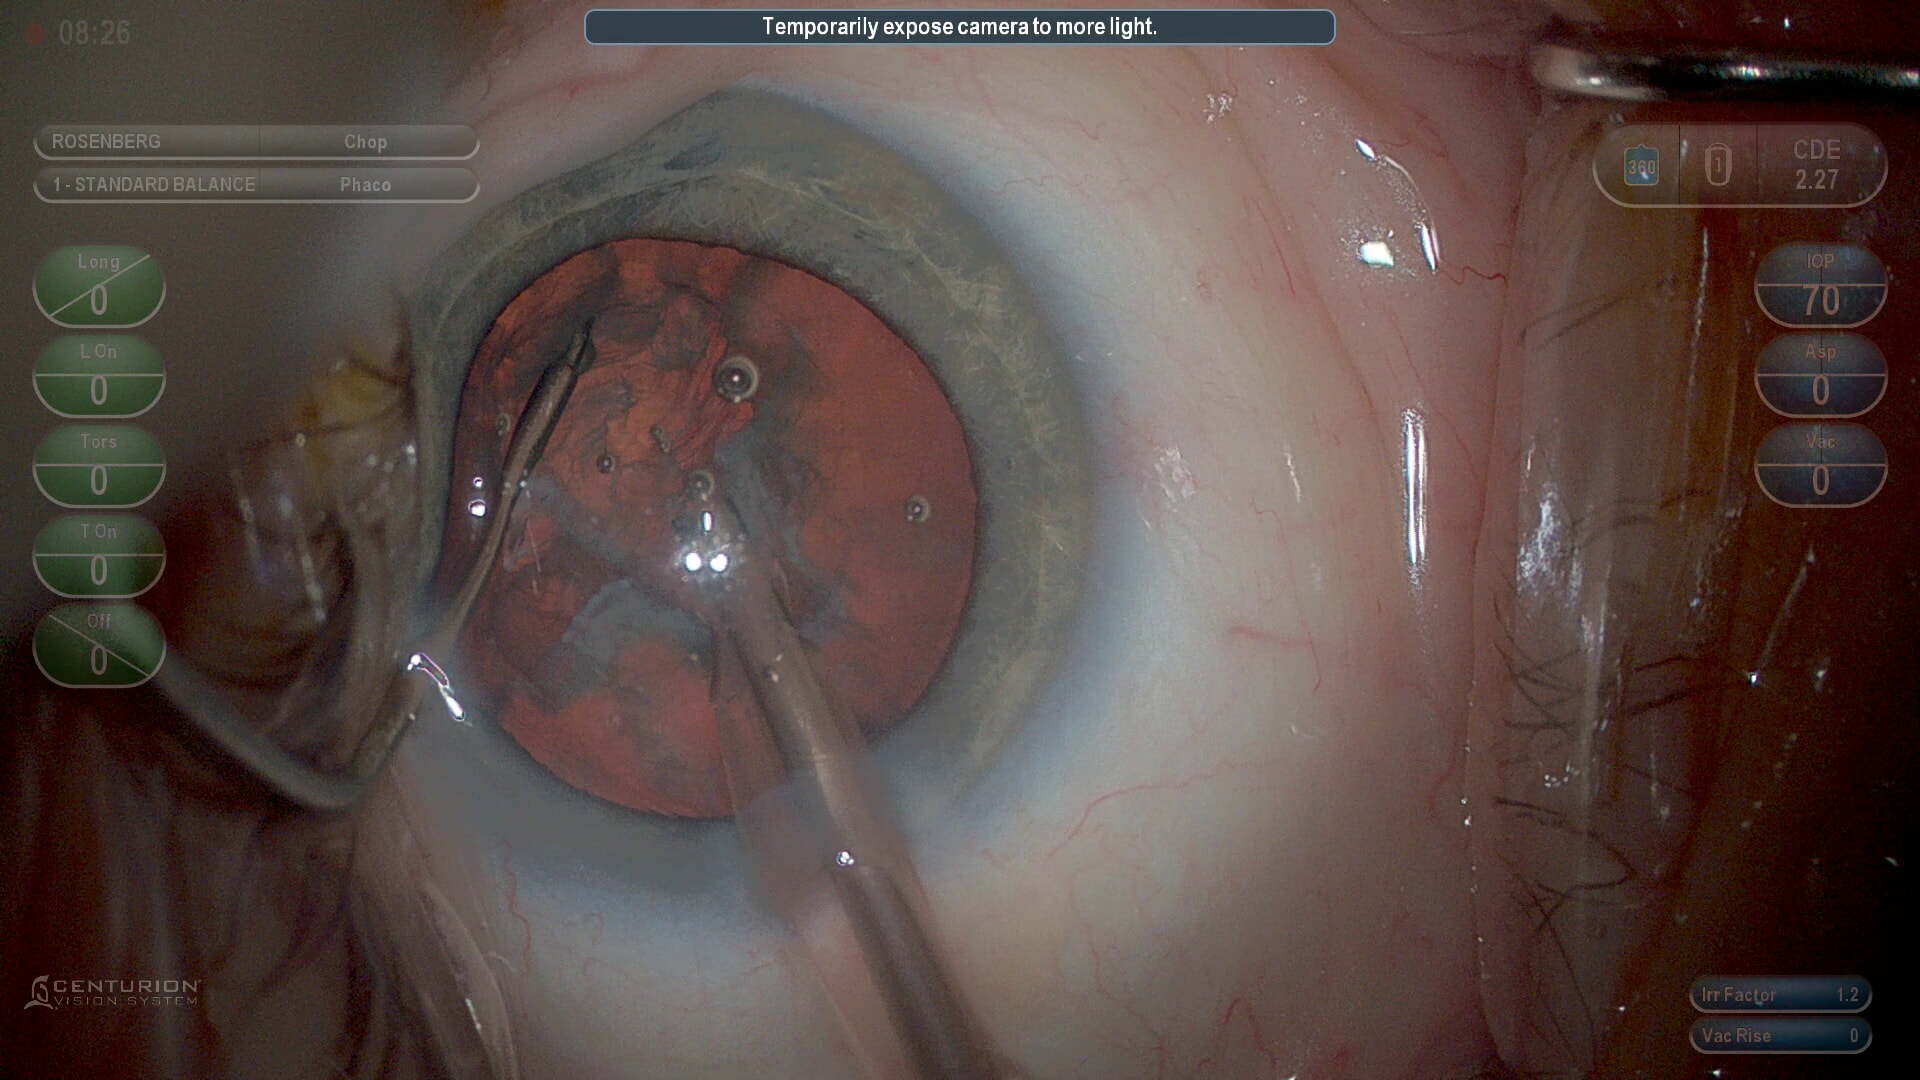iris: (411, 94, 1084, 892)
pupil: (445, 239, 979, 817)
